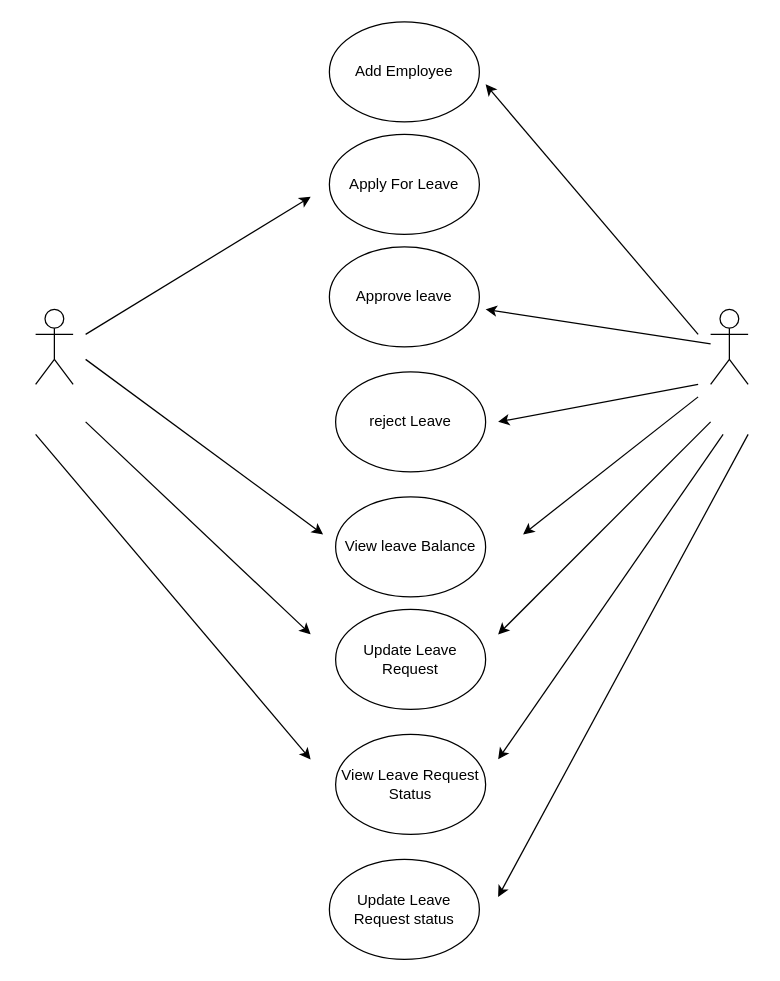
Some shapes in this 780 by 981 pixel diagram are drawn without their labels. The shapes that lost their labels are listed below. From the top down, each one's centre as x and y in pixels, then its label:
At pixel 53 346: "Employee".
At pixel 728 346: "Admin".
